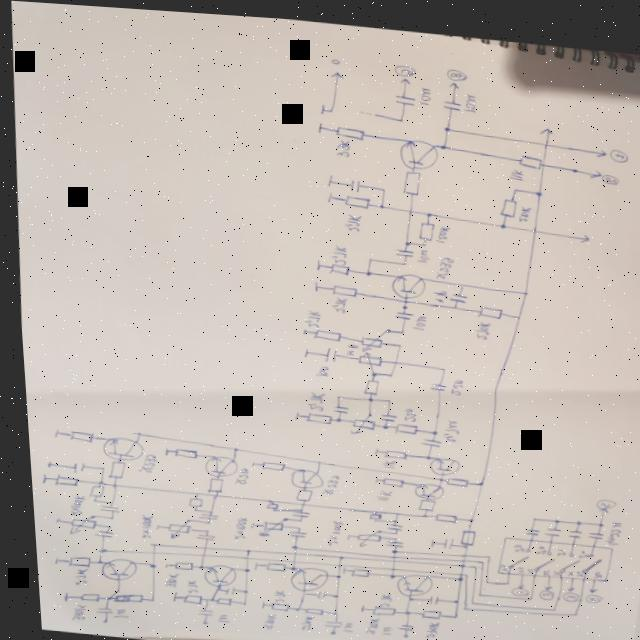capacitor: (392, 87, 416, 101), (319, 340, 336, 359), (439, 92, 462, 105), (188, 508, 214, 518), (390, 304, 411, 316), (534, 516, 554, 528), (445, 285, 465, 297), (392, 242, 413, 253), (88, 526, 107, 538), (415, 431, 437, 441), (91, 502, 115, 511), (315, 613, 334, 624), (189, 529, 209, 539), (377, 533, 397, 543), (374, 407, 394, 417), (424, 375, 443, 385), (580, 522, 599, 532), (189, 604, 206, 615), (560, 520, 578, 530), (88, 604, 106, 614), (284, 505, 304, 514), (280, 525, 300, 534), (66, 460, 81, 472), (379, 517, 398, 526), (517, 517, 531, 529), (389, 618, 407, 627), (328, 399, 344, 409), (436, 530, 448, 543), (348, 175, 360, 187), (419, 588, 432, 599), (216, 582, 229, 593), (307, 585, 320, 595)
crossover: (142, 547, 150, 553), (292, 497, 301, 502), (282, 555, 291, 560), (236, 552, 243, 557), (454, 546, 461, 551), (285, 547, 291, 552), (329, 558, 335, 563), (540, 154, 546, 159), (400, 293, 406, 298), (388, 354, 394, 359), (193, 550, 200, 554), (382, 561, 389, 565), (383, 549, 390, 553), (207, 490, 213, 494), (195, 543, 201, 547), (384, 553, 390, 557), (453, 552, 459, 556), (450, 566, 456, 570)
ground: (324, 169, 331, 182), (47, 427, 55, 438), (164, 588, 171, 600), (54, 590, 61, 602), (311, 254, 318, 266), (324, 186, 331, 198), (318, 98, 325, 110), (288, 407, 297, 416), (298, 344, 306, 354), (316, 116, 322, 129), (35, 472, 41, 484), (310, 276, 316, 288), (252, 596, 259, 605), (422, 532, 428, 542), (158, 444, 164, 454), (368, 441, 375, 449), (351, 599, 357, 608), (41, 459, 47, 467), (246, 558, 252, 566), (334, 561, 339, 570), (46, 555, 51, 564), (156, 559, 162, 566), (48, 516, 54, 523), (297, 323, 303, 330), (242, 518, 248, 525), (339, 528, 344, 536), (368, 471, 373, 478), (149, 522, 154, 528), (245, 457, 250, 463)
junction: (90, 546, 101, 553), (283, 540, 293, 547), (104, 481, 114, 488), (361, 391, 371, 398), (379, 321, 390, 327), (361, 264, 370, 271), (442, 119, 452, 125), (141, 560, 151, 566), (423, 205, 431, 212), (405, 202, 413, 209), (438, 137, 446, 144), (436, 360, 445, 366), (546, 510, 555, 516), (386, 505, 395, 511), (381, 568, 390, 574), (395, 323, 404, 329), (287, 601, 294, 608), (497, 216, 505, 222), (533, 183, 541, 189), (376, 198, 384, 204), (327, 569, 335, 575), (472, 474, 480, 480), (227, 443, 235, 449), (235, 564, 243, 570), (325, 588, 333, 594), (414, 507, 422, 513), (391, 337, 399, 343), (564, 604, 572, 610), (129, 429, 137, 435), (324, 606, 332, 612), (541, 134, 549, 140), (330, 412, 338, 418), (425, 423, 433, 429), (401, 234, 409, 240), (591, 514, 600, 519), (383, 543, 392, 548), (384, 513, 393, 518), (142, 595, 149, 601), (460, 511, 468, 516), (397, 112, 405, 117), (310, 455, 318, 460), (569, 512, 577, 517), (529, 220, 537, 225), (542, 600, 550, 605), (376, 419, 384, 424), (451, 557, 459, 562), (444, 593, 452, 598), (396, 605, 404, 610), (365, 367, 373, 372), (177, 515, 185, 520), (456, 276, 462, 282), (238, 545, 244, 551), (365, 251, 371, 257), (90, 479, 99, 483), (399, 591, 406, 596), (478, 548, 486, 552), (261, 495, 269, 499), (432, 471, 440, 475), (398, 299, 406, 303), (275, 513, 283, 517), (379, 182, 385, 187), (332, 550, 338, 555), (513, 308, 519, 313), (382, 393, 388, 398), (445, 608, 451, 613), (327, 103, 333, 108), (511, 180, 517, 185), (385, 531, 391, 536), (386, 525, 392, 530), (283, 562, 289, 567), (207, 584, 213, 589), (190, 561, 196, 566), (465, 558, 471, 563), (418, 236, 424, 241), (294, 587, 300, 592), (519, 283, 526, 287), (477, 573, 484, 577), (398, 256, 405, 260), (291, 514, 296, 519), (202, 594, 207, 599), (384, 368, 390, 372), (143, 541, 149, 545), (525, 509, 531, 513), (94, 464, 100, 468), (101, 499, 107, 503), (331, 390, 337, 394), (448, 299, 454, 303), (419, 449, 425, 453), (233, 598, 239, 602), (234, 586, 240, 590), (197, 526, 203, 530), (199, 518, 205, 522), (188, 488, 194, 492), (185, 505, 191, 509), (450, 571, 456, 575), (456, 566, 462, 570), (454, 600, 460, 604), (469, 586, 475, 590), (497, 574, 503, 578), (520, 589, 526, 593), (83, 513, 89, 517), (85, 497, 90, 501), (103, 514, 108, 518), (367, 504, 372, 508), (202, 506, 207, 510), (462, 594, 467, 598), (472, 553, 477, 557), (367, 514, 373, 517), (291, 504, 297, 507), (197, 595, 201, 599), (265, 505, 270, 508), (291, 523, 295, 525)
resistor: (355, 325, 388, 349), (342, 406, 372, 431), (248, 515, 282, 535), (60, 515, 92, 536), (398, 164, 423, 190), (348, 521, 376, 544), (99, 588, 135, 604), (350, 346, 380, 364), (159, 519, 187, 538), (471, 297, 502, 314), (334, 120, 365, 135), (496, 189, 517, 211), (342, 189, 370, 205), (47, 472, 74, 487), (308, 324, 339, 337), (452, 521, 472, 541), (101, 458, 121, 478), (415, 214, 433, 236), (362, 599, 391, 612), (199, 473, 219, 491), (59, 554, 84, 568), (518, 147, 541, 162), (301, 407, 327, 420), (327, 280, 355, 292), (63, 430, 91, 442), (325, 258, 348, 272), (172, 590, 196, 603), (358, 372, 375, 390), (389, 417, 414, 429), (427, 506, 452, 518), (255, 457, 281, 468), (411, 492, 431, 506), (412, 602, 435, 614), (440, 470, 463, 482), (289, 483, 307, 498), (71, 590, 93, 602), (378, 443, 402, 454), (164, 558, 188, 569), (376, 471, 399, 482), (341, 562, 364, 573), (168, 446, 192, 456), (82, 482, 99, 496), (257, 558, 280, 568), (207, 593, 226, 604), (262, 598, 282, 608), (182, 493, 198, 505), (296, 602, 316, 611), (258, 498, 274, 507), (362, 508, 376, 514)
switch: (500, 538, 527, 563), (573, 543, 598, 569), (551, 543, 575, 566), (527, 542, 551, 565)
terminal: (587, 159, 600, 170), (538, 119, 553, 128), (576, 225, 588, 236), (330, 66, 344, 74), (594, 140, 606, 149), (448, 76, 460, 82), (399, 72, 411, 78), (591, 499, 603, 505), (535, 577, 547, 583), (508, 575, 518, 582), (559, 577, 568, 584), (579, 579, 591, 584), (93, 617, 101, 623), (320, 625, 328, 631), (393, 627, 401, 632), (193, 618, 201, 622)
text: (596, 511, 619, 538), (430, 249, 453, 276), (129, 450, 154, 474), (319, 513, 339, 542), (434, 411, 456, 437), (60, 491, 82, 516), (224, 511, 243, 539), (298, 301, 321, 323), (313, 469, 335, 492), (301, 385, 323, 407), (391, 56, 418, 72), (327, 240, 347, 261), (65, 565, 83, 587), (470, 313, 488, 335), (416, 613, 434, 635), (132, 513, 148, 537), (342, 207, 360, 228), (327, 291, 347, 309), (226, 463, 244, 483), (62, 602, 80, 622), (355, 611, 373, 631), (394, 400, 414, 417), (445, 61, 469, 75), (408, 308, 426, 326), (609, 139, 629, 155), (291, 610, 309, 627), (335, 134, 351, 153), (515, 197, 531, 216), (577, 583, 598, 597), (444, 372, 460, 390), (254, 609, 270, 627), (600, 162, 619, 177), (463, 87, 478, 106), (418, 80, 433, 99), (429, 282, 446, 298), (310, 358, 327, 374), (434, 219, 449, 237), (367, 482, 386, 496), (155, 569, 171, 585), (590, 490, 611, 502), (374, 452, 393, 464), (105, 605, 124, 617), (502, 578, 521, 590), (370, 587, 385, 602), (507, 160, 523, 174), (414, 242, 427, 259), (554, 584, 573, 595), (530, 580, 546, 593), (265, 585, 279, 599), (335, 615, 347, 628), (356, 104, 375, 112), (179, 577, 191, 589), (529, 535, 541, 547), (505, 535, 518, 546), (399, 61, 415, 69), (209, 611, 223, 620), (373, 619, 384, 629), (449, 65, 463, 72), (559, 560, 569, 569), (330, 53, 341, 61), (549, 540, 559, 548), (568, 560, 576, 570), (612, 143, 625, 149), (543, 561, 554, 568), (585, 562, 596, 569), (508, 558, 517, 566), (593, 493, 605, 499), (603, 167, 615, 173), (343, 337, 354, 343), (572, 541, 580, 549), (557, 586, 569, 591), (508, 582, 519, 587), (342, 344, 350, 350), (493, 556, 499, 564), (580, 588, 589, 593), (519, 559, 525, 566), (535, 584, 543, 589), (535, 561, 541, 566)
transistor: (398, 132, 438, 165), (96, 434, 140, 460), (282, 561, 322, 589), (92, 554, 132, 581), (388, 266, 425, 294), (388, 566, 426, 592), (197, 451, 233, 476), (196, 559, 230, 585), (283, 463, 319, 486), (423, 450, 455, 471), (407, 476, 439, 494)
